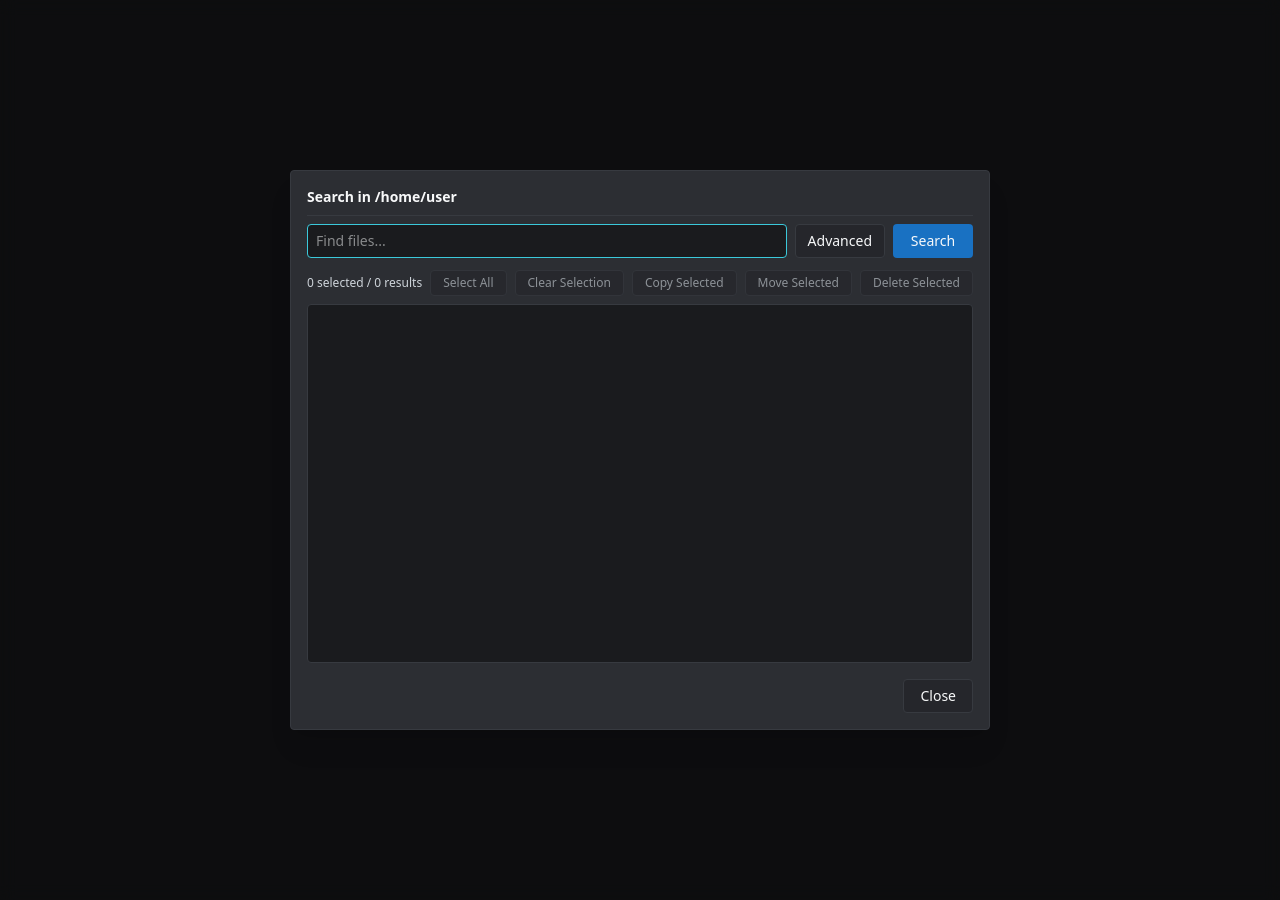
Test: SearchPreviewDialogs operations › moves selected search results using the target panel path
Type "notes" into the field with placeholder "Find files...". click: x=547, y=241
box: [307,224,787,258]
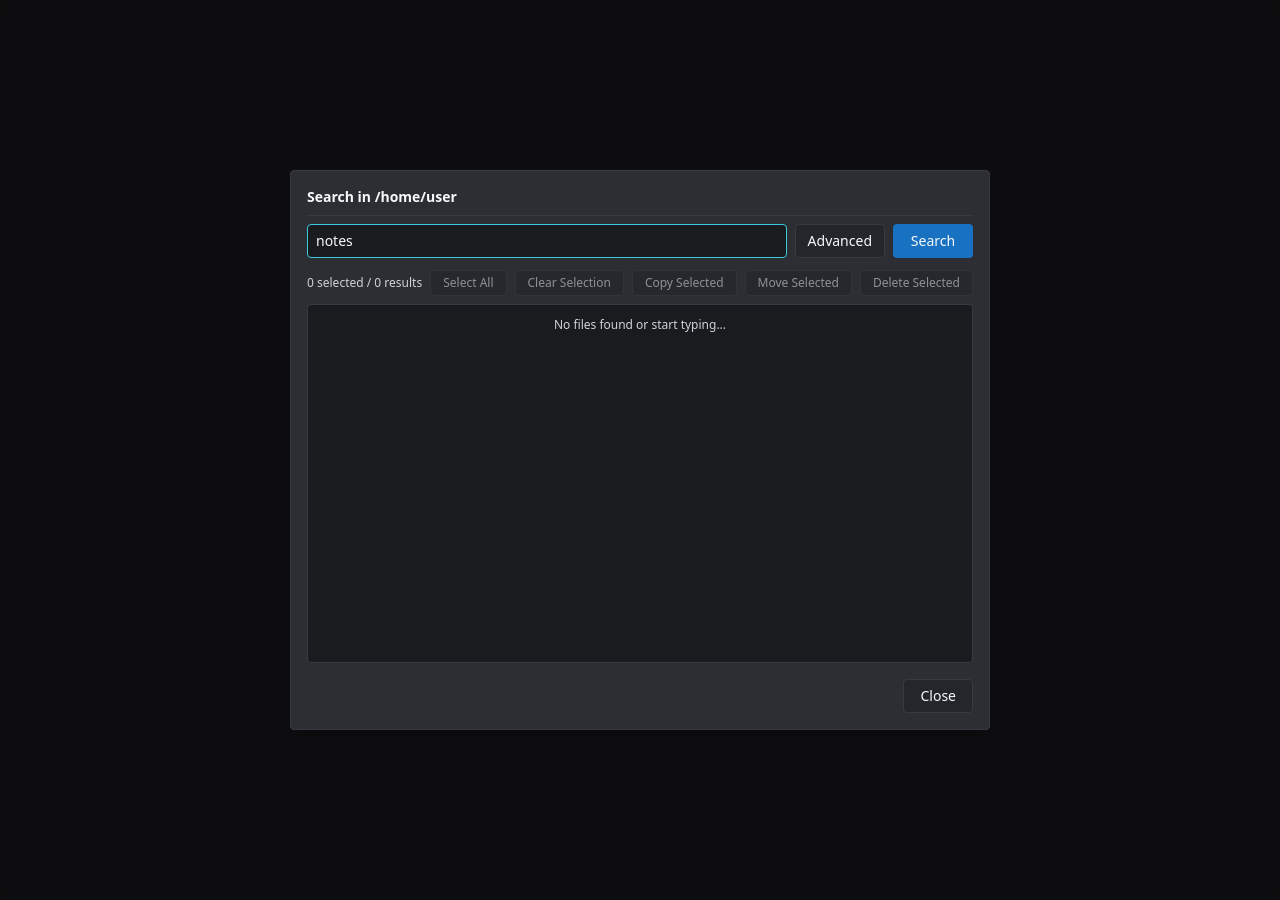
Click the button "Search". click: x=933, y=241
box: [893,224,973,258]
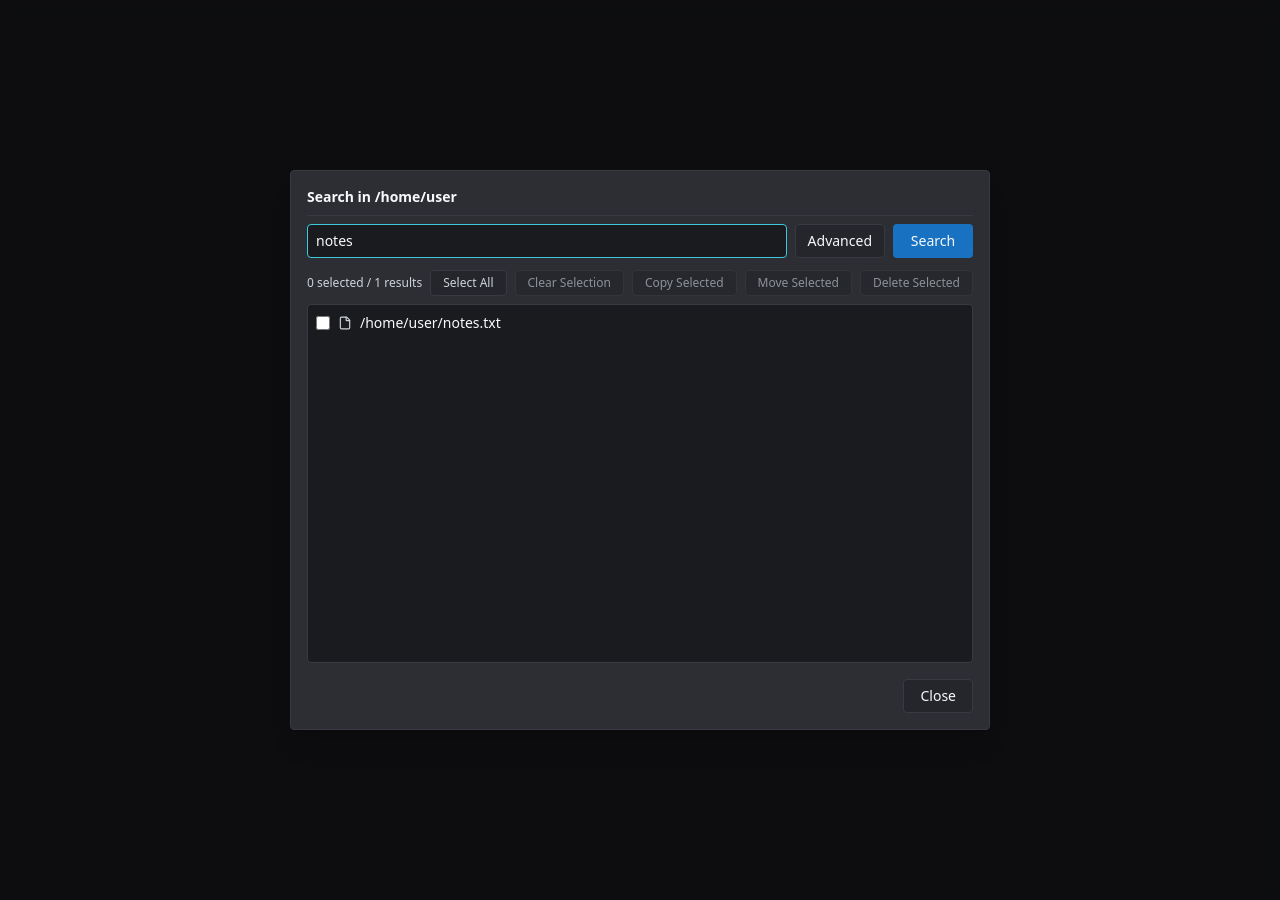
Expected: the text "/home/user/notes.txt" is shown, [360,313,501,333]
Click the checkbox. click: x=323, y=323
box: [316,316,330,330]
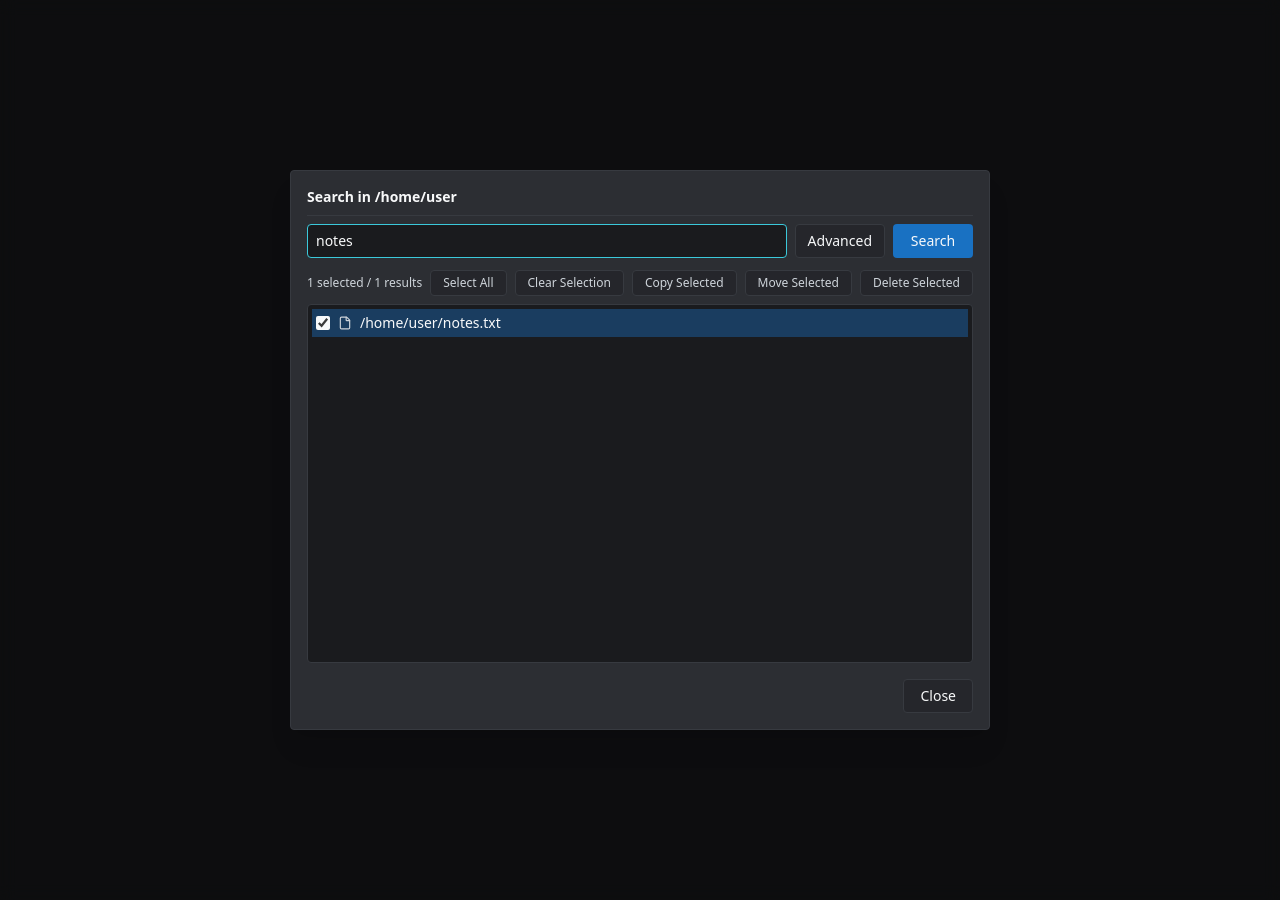
Click the button "Move Selected". click: x=798, y=283
box: [745,270,852,296]
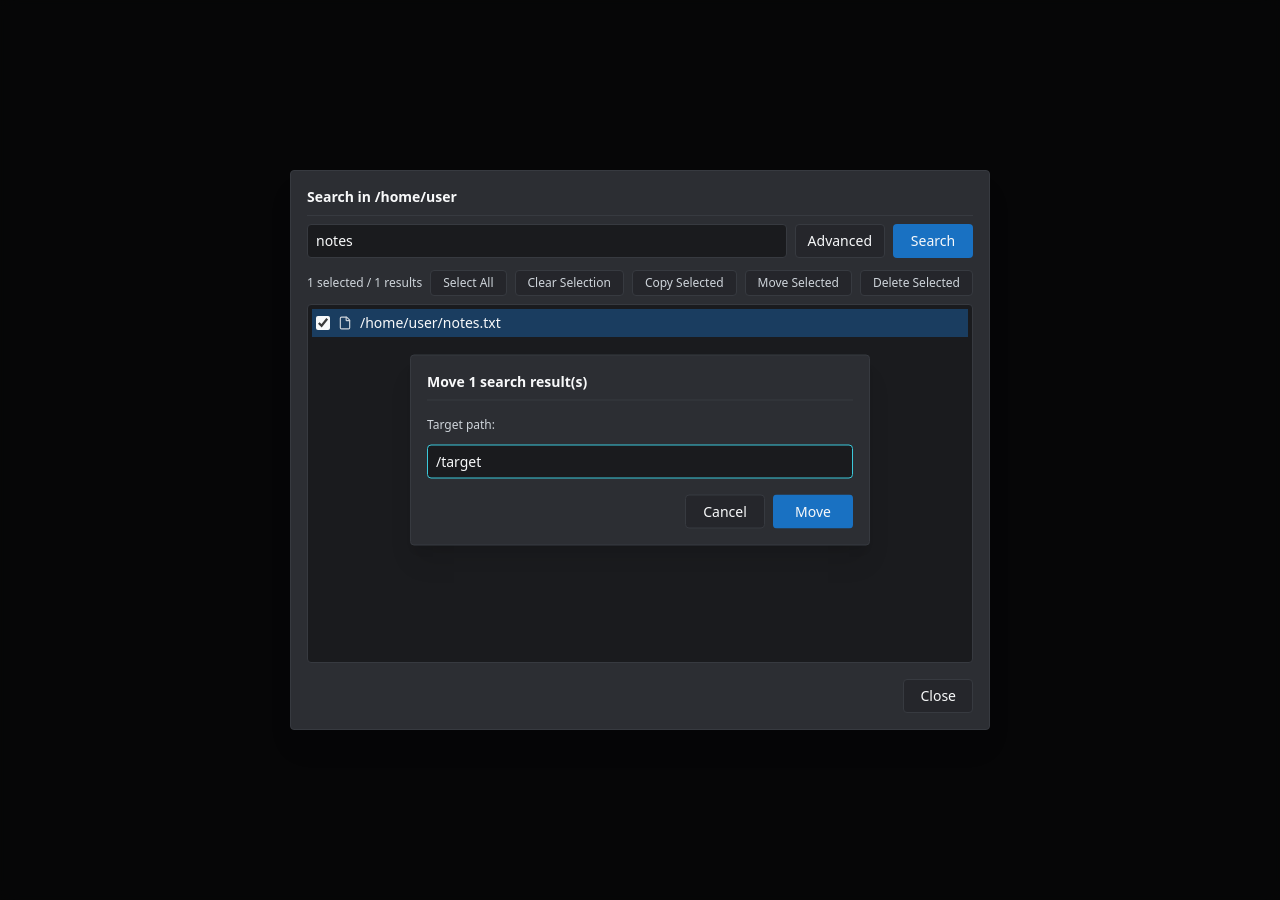
Expected: the field showing "/target" is shown, [427,444,853,478]
Click the button "Move". click: x=813, y=512
box: [773,494,853,528]
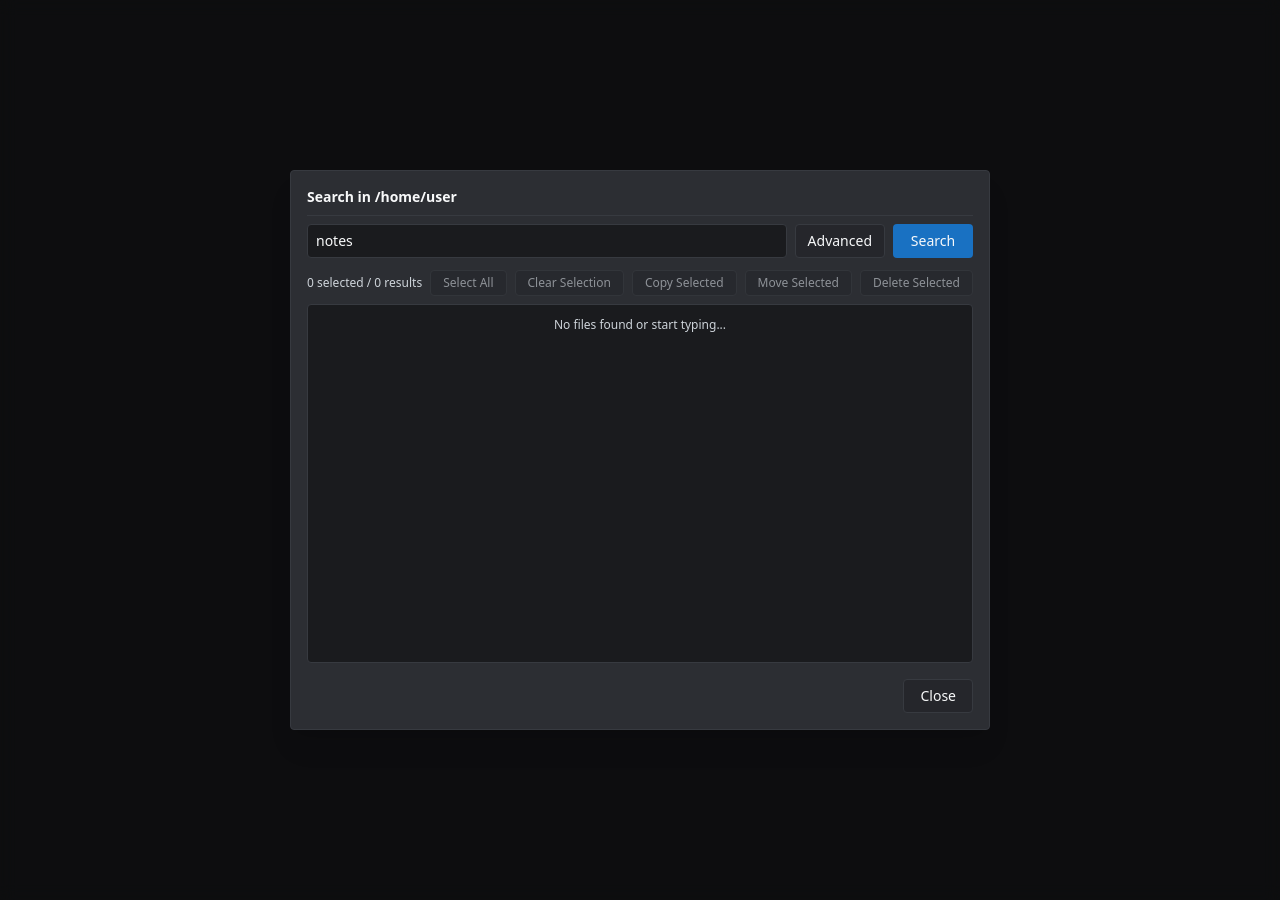
Expected: the button "/home/user/notes.txt" is gone
